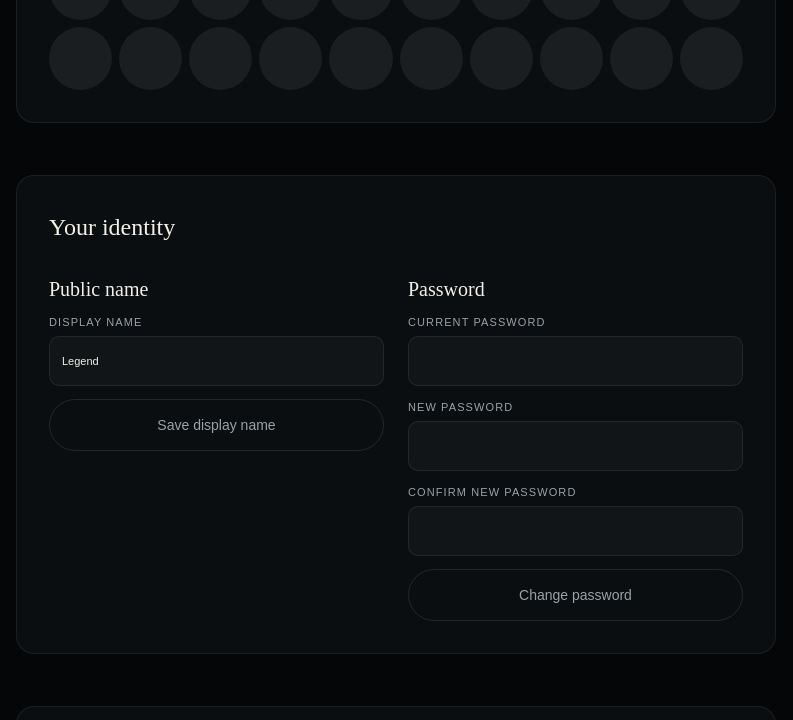
Test case: ProfilePage account controls › requires matching new passwords before changing one
(page scrolled)
Type "winterarc26" into the password field labelled "Current password" at (576, 361), box [408, 336, 743, 386]
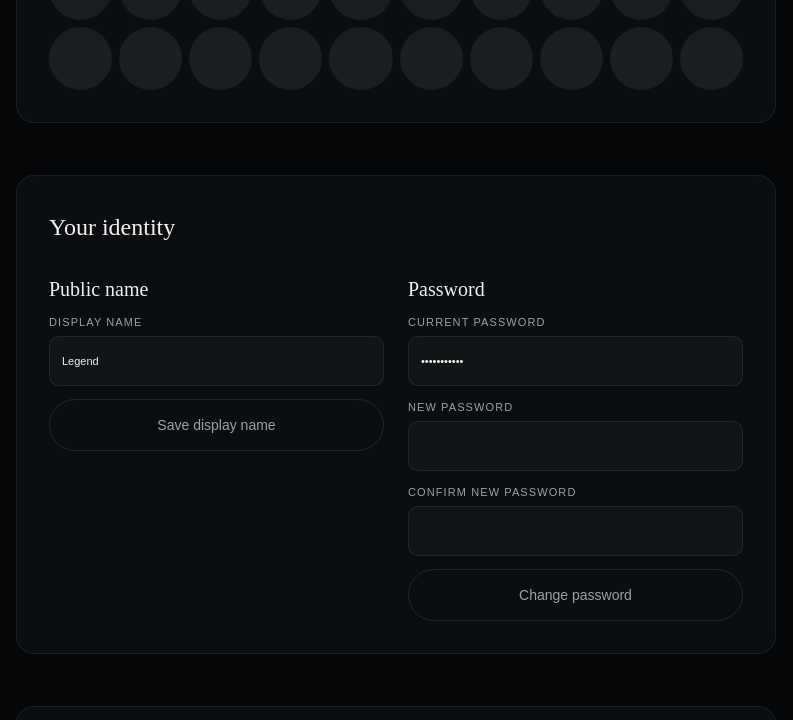
Type "different99" into the password field labelled "New password" at (576, 446), box [408, 421, 743, 471]
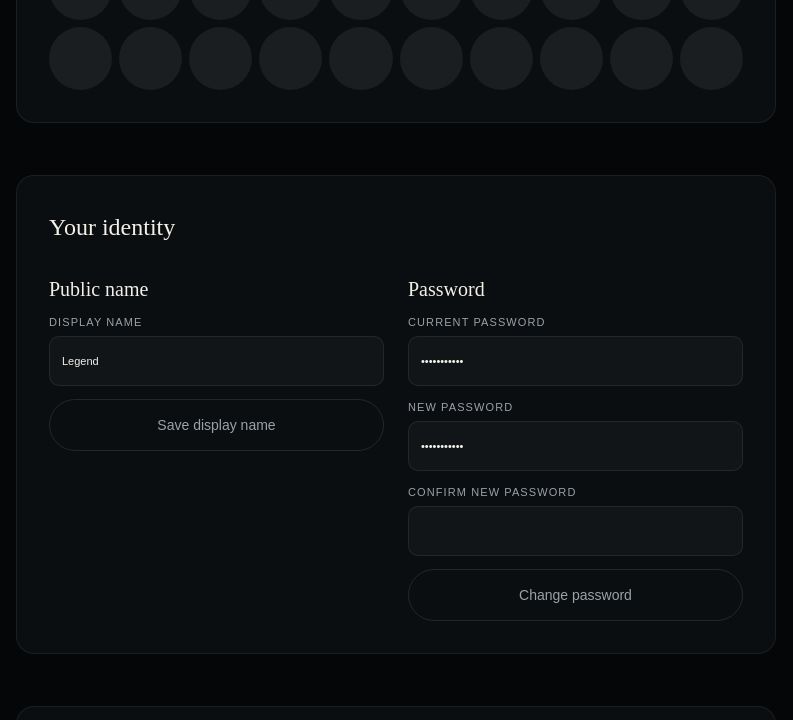
Type "otherpass99" into the password field labelled "Confirm new password" at (576, 531), box [408, 506, 743, 556]
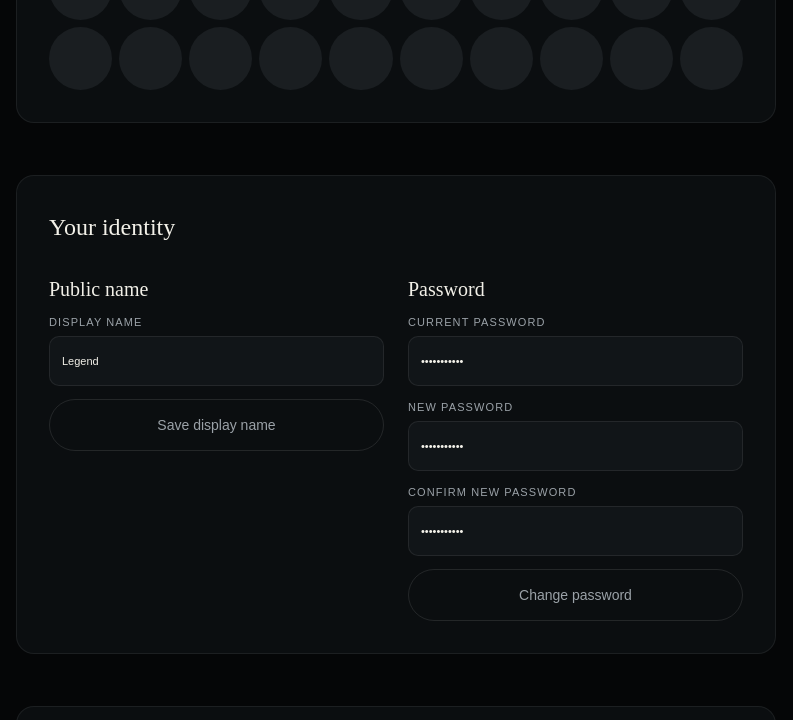
Click the button "Change password" at (576, 595), box [408, 569, 743, 621]
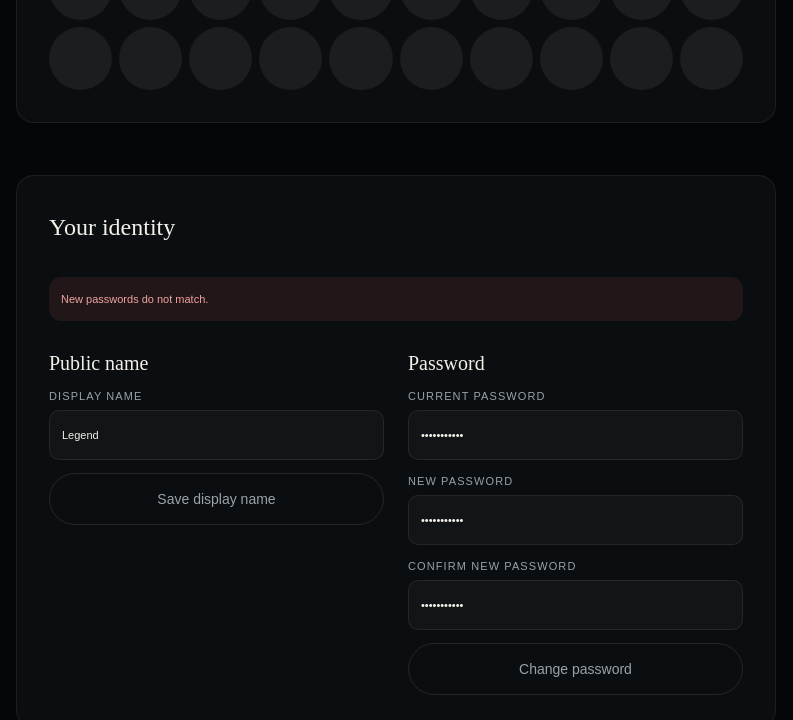
Expected: the message reads "New passwords do not match.", [61, 293, 208, 305]
